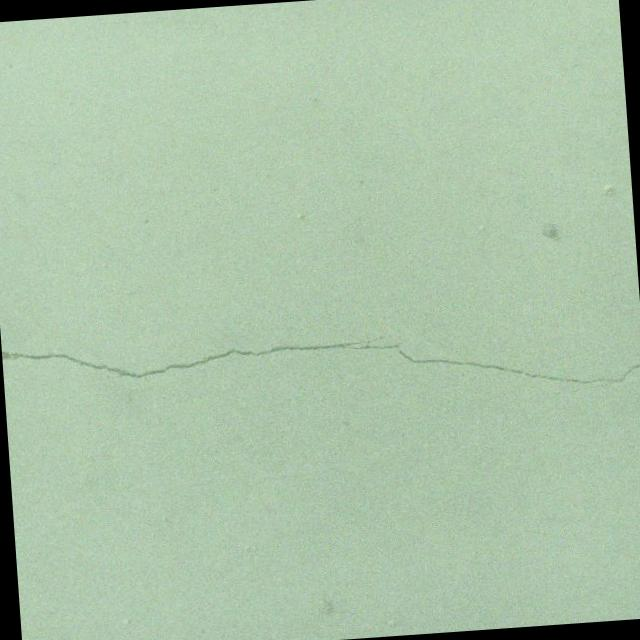crack: (1, 305, 640, 434)
